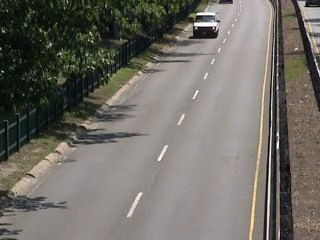truck: (192, 11, 221, 41)
